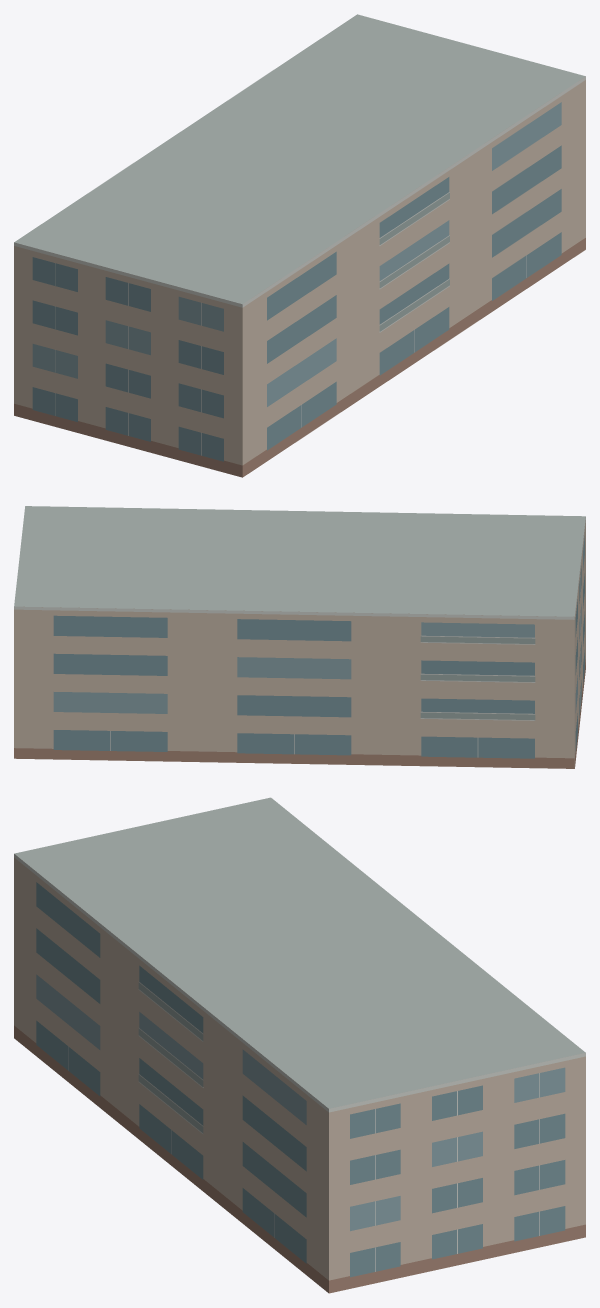
The model's file is survey-upis-32832568.glb.
3 views of the same model, one above another, from view 1: azimuth 30°, elevation 25°; view 2: azimuth 150°, elevation 25°; view 3: azimuth 270°, elevation 25° (orthographic). The views are drawn at different scales.
Visible parts, largest first — view 1: survey-upis-32832568.tmp; view 2: survey-upis-32832568.tmp; view 3: survey-upis-32832568.tmp.
Boxes of the visible parts, bbox=[...] form: survey-upis-32832568.tmp: bbox=[14, 14, 585, 477]; survey-upis-32832568.tmp: bbox=[14, 506, 585, 768]; survey-upis-32832568.tmp: bbox=[14, 797, 585, 1293].
Bounding box in the file's own units: 44.14 × 12.2 × 34.25.
